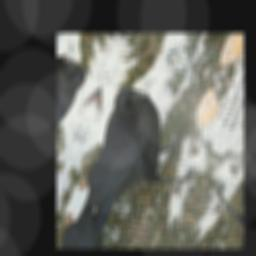Crow: (72, 80, 216, 243)
